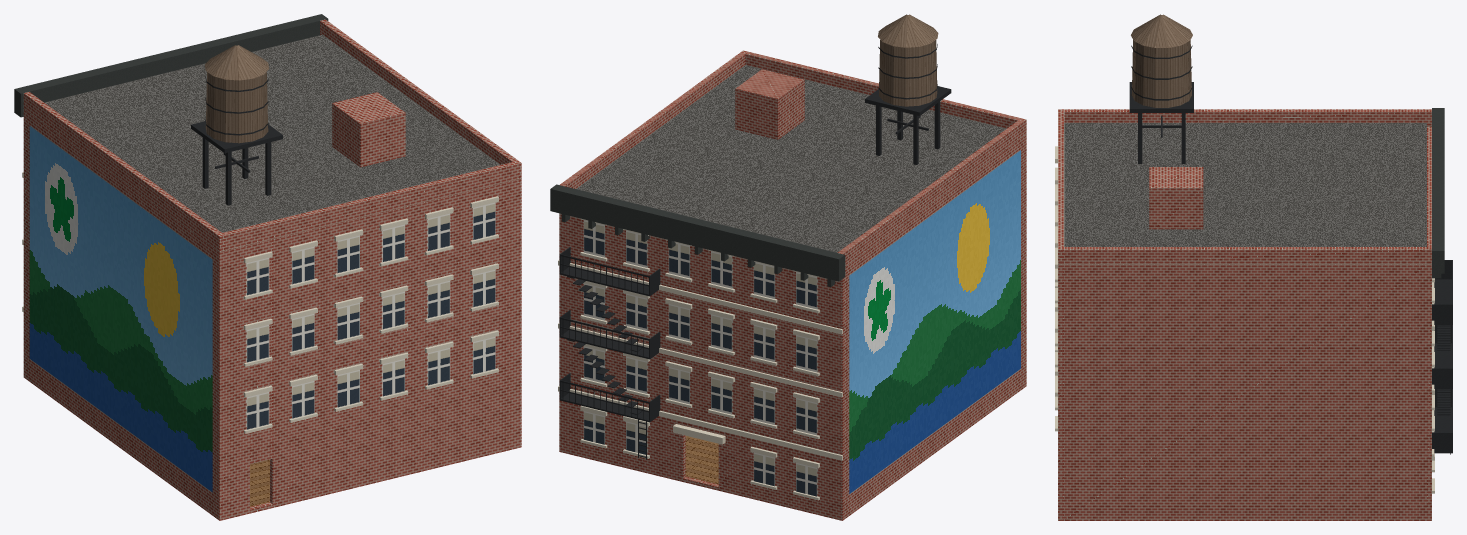
Rendered from walkup_red_mural_verda.glb.
3 renders of one model, left to right at view 1: azimuth 30°, elevation 25°; view 2: azimuth 150°, elevation 25°; view 3: azimuth 270°, elevation 25°, orthographic. The views are drawn at different scales.
Parts seen in each view (by area): view 1: walkup_red_mural_verda; view 2: walkup_red_mural_verda; view 3: walkup_red_mural_verda.
Boxes of the visible parts, x1,y1,x2,y2 form: walkup_red_mural_verda: [14, 14, 521, 520]; walkup_red_mural_verda: [550, 14, 1026, 520]; walkup_red_mural_verda: [1055, 14, 1452, 520].
Bounding box in the file's own units: 16.3 × 21.2 × 19.14.
11 materials, 11 textured.
